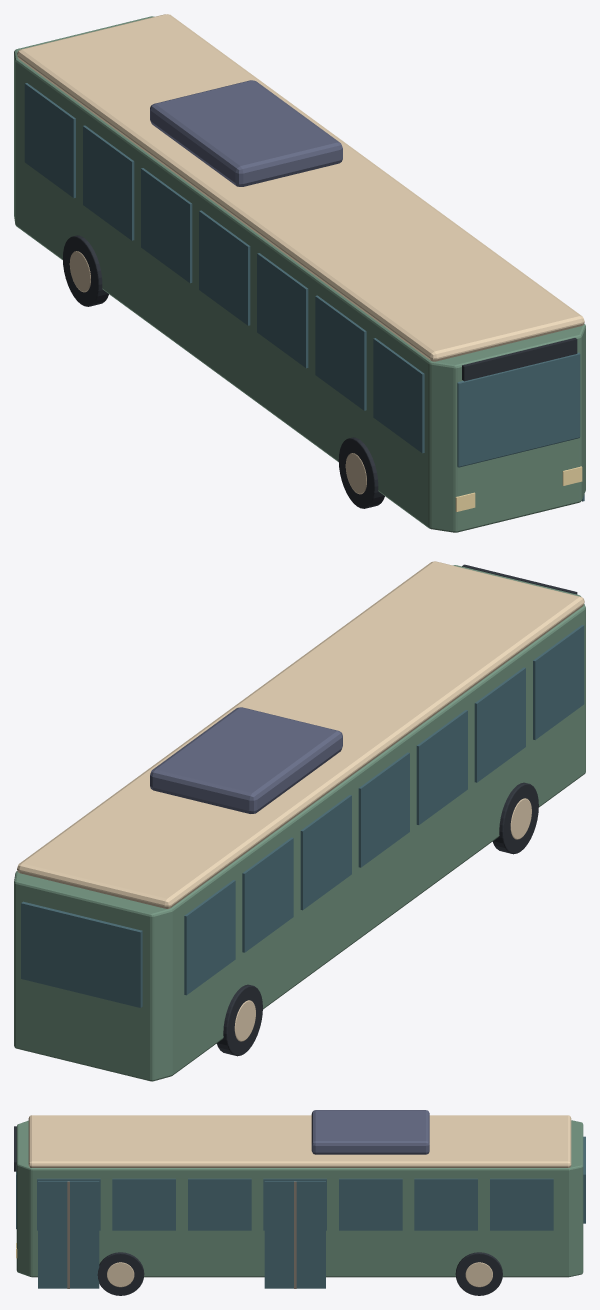
File: bus.glb
The picture shows the model from 3 angles, top to bottom: view 1: azimuth 30°, elevation 25°; view 2: azimuth 150°, elevation 25°; view 3: azimuth 270°, elevation 25°; orthographic projection. The views are drawn at different scales.
Parts seen in each view (by area): view 1: bus; view 2: bus; view 3: bus.
Boxes of the visible parts, x1=… form: bus: x1=14, y1=14, x2=585, y2=532; bus: x1=14, y1=561, x2=585, y2=1081; bus: x1=14, y1=1110, x2=585, y2=1295.
Size of the model in its own units: 2.64 by 3.38 by 12.12.
